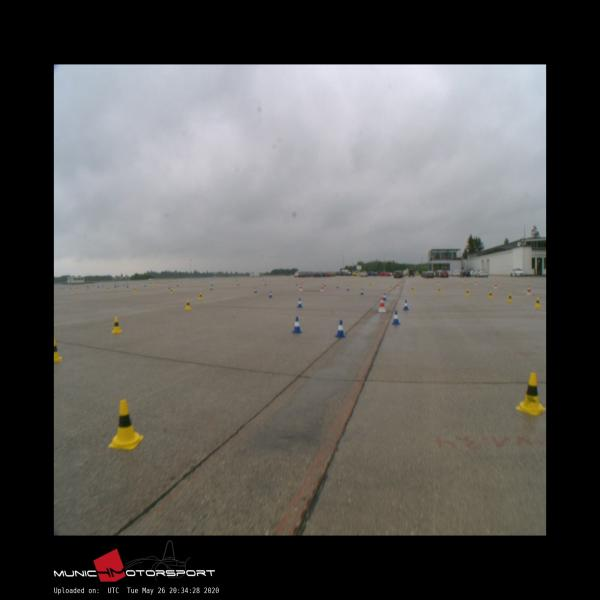blue_cone: (335, 319, 345, 338), (291, 316, 301, 332), (391, 310, 400, 325), (402, 300, 408, 310), (296, 298, 302, 307), (269, 290, 273, 298), (360, 288, 364, 295), (383, 293, 386, 300), (254, 287, 257, 293)
yellow_cone: (109, 399, 143, 449), (516, 372, 546, 414), (54, 338, 62, 362), (110, 317, 121, 333), (186, 300, 192, 310), (535, 297, 541, 307), (508, 293, 513, 301), (198, 292, 202, 300), (488, 291, 492, 298), (466, 289, 470, 296)
